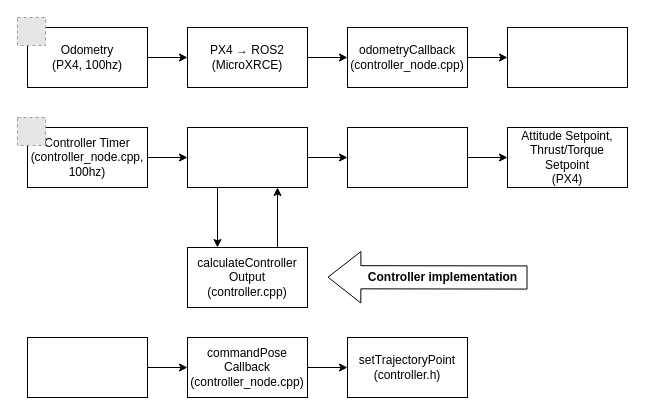
This 645x415 diagram has some shape labels left out. Grey dashed boxes stand in for pictures. The shapes that lost their labels are listed below. From the top down, each one's centre as x and y in pixels, then its label:
At pixel 567 57: "setOdometry (controller.h)".
At pixel 247 157: "updateController Output (controller_node.cpp)".
At pixel 407 157: "ROS2 → PX4 (MicroXRCE)".
At pixel 87 367: "/command/pose (geometry_msgs/ poseStamped)".
